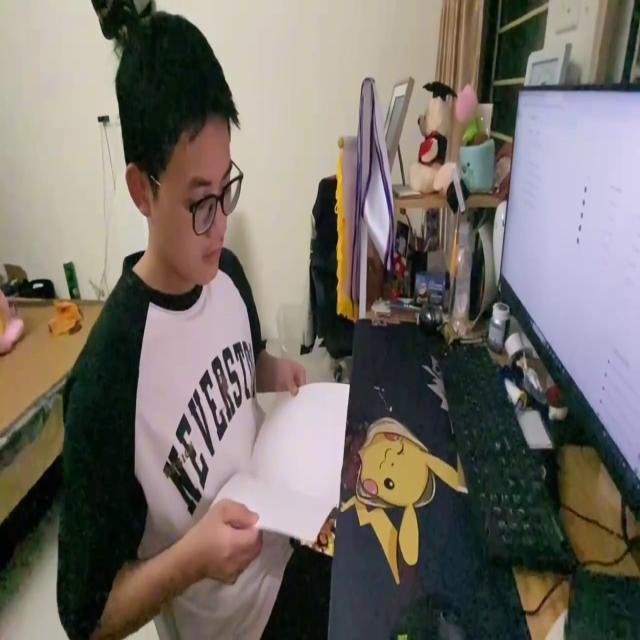book: (213, 376, 349, 548)
laptop: (496, 73, 640, 520)
student: (51, 2, 329, 640)
